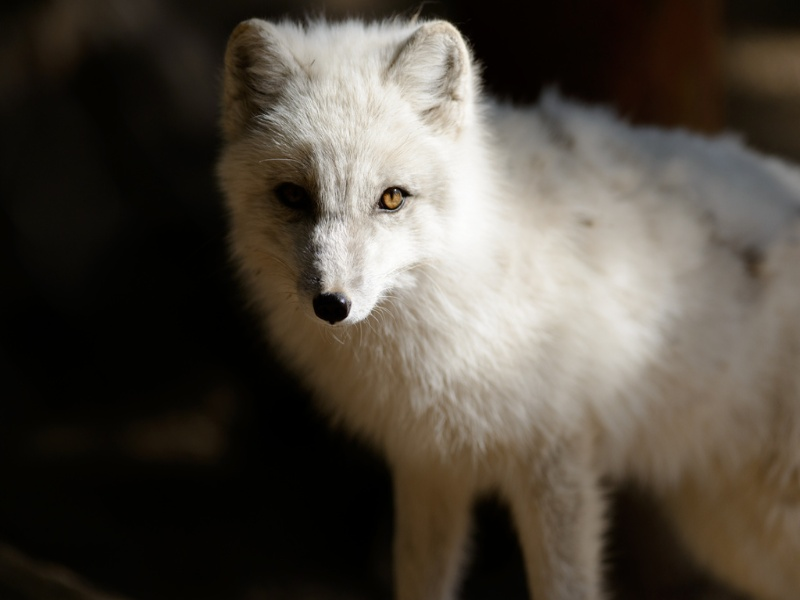fox: (211, 12, 800, 595)
